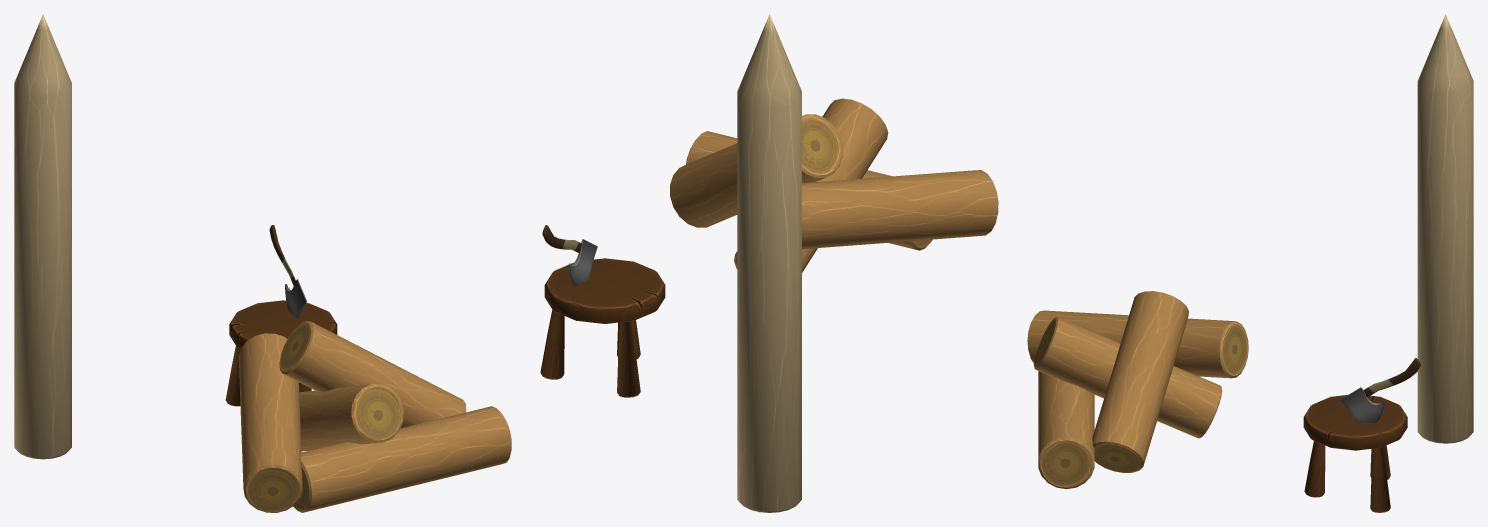
File: kit_camp_04.FBX
3 views of the same model, side by side, from view 1: azimuth 30°, elevation 25°; view 2: azimuth 150°, elevation 25°; view 3: azimuth 270°, elevation 25° (orthographic). The views are drawn at different scales.
Visible parts, largest first — view 1: rondin_02, rondin_004, rondin_005, rondin_006, rondin_003, Cylinder006, Box021; view 2: rondin_02, rondin_005, Cylinder006, rondin_006, rondin_003, rondin_004, Box021; view 3: rondin_02, rondin_006, rondin_003, Cylinder006, rondin_004, rondin_005, Box021.
Part boxes in pixels (x1=…): rondin_02: x1=14, y1=14, x2=71, y2=459; rondin_004: x1=293, y1=406, x2=511, y2=512; rondin_005: x1=238, y1=333, x2=302, y2=512; rondin_006: x1=279, y1=320, x2=466, y2=428; rondin_003: x1=299, y1=383, x2=403, y2=451; Cylinder006: x1=225, y1=300, x2=337, y2=406; Box021: x1=269, y1=225, x2=307, y2=318; rondin_02: x1=737, y1=14, x2=801, y2=512; rondin_005: x1=802, y1=170, x2=998, y2=249; Cylinder006: x1=540, y1=258, x2=665, y2=397; rondin_006: x1=670, y1=114, x2=842, y2=227; rondin_003: x1=734, y1=98, x2=888, y2=272; rondin_004: x1=686, y1=131, x2=932, y2=250; Box021: x1=542, y1=225, x2=597, y2=286; rondin_02: x1=1417, y1=14, x2=1473, y2=443; rondin_006: x1=1092, y1=291, x2=1188, y2=472; rondin_003: x1=1034, y1=317, x2=1222, y2=438; Cylinder006: x1=1303, y1=395, x2=1407, y2=512; rondin_004: x1=1038, y1=371, x2=1094, y2=489; rondin_005: x1=1027, y1=310, x2=1248, y2=378; Box021: x1=1339, y1=358, x2=1420, y2=422.
Size of the model in its own units: 414 by 604 by 583.
4 materials, 4 textured.
